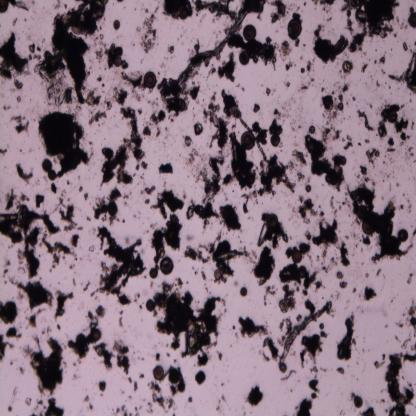Background material: (34, 0, 109, 106), (152, 275, 226, 367), (170, 11, 250, 87), (344, 180, 413, 260), (0, 191, 60, 277), (92, 226, 147, 306), (37, 111, 95, 178), (342, 0, 401, 55), (22, 334, 66, 399), (302, 134, 345, 191), (254, 145, 298, 199), (386, 349, 416, 416), (226, 35, 282, 69), (203, 92, 232, 157), (230, 133, 262, 189), (10, 274, 56, 311), (0, 29, 32, 81), (99, 142, 135, 186), (119, 106, 146, 163), (314, 22, 348, 66), (148, 214, 185, 253), (199, 149, 226, 202), (134, 4, 162, 55), (40, 232, 76, 271), (160, 78, 198, 114), (222, 88, 252, 132), (388, 50, 416, 93), (149, 188, 187, 219), (256, 212, 289, 247), (312, 218, 341, 256), (251, 246, 276, 287), (318, 89, 346, 124), (149, 378, 176, 414), (337, 312, 356, 362), (191, 0, 238, 20), (298, 335, 322, 374), (218, 202, 245, 234), (382, 101, 409, 133), (184, 200, 219, 224), (185, 239, 216, 264), (121, 69, 145, 101), (237, 315, 268, 338), (284, 94, 303, 131), (185, 150, 207, 181), (92, 342, 115, 371), (52, 290, 74, 320), (113, 340, 131, 376), (31, 397, 65, 416), (60, 196, 78, 230), (163, 0, 193, 20), (297, 196, 318, 224), (319, 123, 343, 147), (219, 52, 237, 83), (280, 263, 303, 287), (0, 299, 21, 324), (10, 114, 32, 136), (15, 162, 35, 186), (261, 336, 278, 364), (150, 108, 165, 138), (302, 268, 318, 296), (246, 385, 264, 409), (68, 340, 90, 359), (92, 198, 108, 223), (294, 398, 316, 416), (93, 31, 106, 61), (86, 111, 108, 128), (357, 109, 374, 131), (283, 284, 297, 310), (106, 186, 128, 202), (244, 0, 264, 17), (115, 403, 141, 416), (0, 334, 13, 360), (3, 190, 18, 212), (406, 304, 416, 336), (10, 0, 31, 15), (104, 41, 115, 69), (262, 284, 276, 306), (24, 313, 41, 331), (170, 377, 186, 396), (216, 262, 235, 278), (356, 164, 371, 184), (87, 311, 102, 330), (113, 86, 128, 105), (214, 235, 233, 250), (341, 239, 351, 267), (237, 244, 251, 264), (366, 148, 382, 164), (322, 257, 338, 273), (292, 150, 309, 165), (4, 326, 22, 340), (279, 317, 292, 336), (364, 284, 379, 300), (309, 378, 320, 399), (358, 404, 377, 416), (91, 303, 106, 318), (26, 44, 42, 58), (2, 256, 12, 278), (376, 120, 388, 138), (374, 352, 386, 370), (300, 76, 314, 91), (304, 299, 317, 315), (14, 190, 30, 203), (251, 122, 268, 134), (270, 120, 284, 134), (398, 132, 412, 146), (280, 42, 292, 58), (216, 394, 226, 413), (279, 370, 296, 381), (84, 394, 95, 411), (329, 196, 338, 216), (343, 134, 353, 152), (337, 271, 347, 289), (33, 194, 45, 209), (93, 73, 104, 89), (69, 231, 79, 248), (338, 197, 351, 210), (222, 174, 235, 187), (396, 16, 408, 30), (242, 194, 251, 212), (134, 161, 150, 171), (387, 138, 397, 154), (360, 234, 372, 247), (402, 352, 416, 363), (143, 185, 158, 195), (97, 379, 107, 394), (117, 308, 124, 329), (273, 108, 285, 120), (358, 62, 370, 74), (319, 0, 337, 8), (271, 12, 283, 24), (299, 241, 310, 254), (100, 260, 110, 274), (206, 65, 216, 79), (319, 322, 327, 339), (151, 254, 160, 269), (252, 101, 262, 114), (193, 122, 203, 135), (11, 386, 19, 402), (297, 169, 306, 183), (108, 214, 119, 225), (50, 181, 58, 196), (406, 272, 416, 284), (290, 36, 300, 48), (142, 125, 151, 138), (302, 230, 312, 241), (184, 135, 194, 146), (40, 326, 52, 335), (13, 80, 23, 90), (285, 247, 294, 258), (81, 281, 90, 292), (72, 224, 84, 232), (291, 12, 303, 20), (104, 98, 112, 110), (395, 319, 405, 328), (284, 62, 294, 71), (10, 17, 18, 28), (167, 44, 175, 55), (216, 349, 223, 361), (407, 145, 414, 157), (342, 83, 350, 93), (24, 397, 32, 407), (307, 254, 313, 267), (306, 60, 312, 73), (264, 85, 271, 96), (200, 270, 207, 281), (0, 146, 7, 157), (272, 0, 283, 7), (138, 371, 146, 380), (2, 103, 11, 111), (315, 280, 323, 289), (336, 367, 345, 375), (71, 278, 78, 288), (155, 352, 161, 363), (35, 308, 46, 314), (397, 202, 405, 210), (319, 366, 327, 374), (371, 178, 378, 187), (379, 55, 386, 64), (410, 342, 416, 352), (402, 339, 408, 349), (319, 209, 325, 219), (411, 228, 416, 240), (18, 364, 24, 374), (133, 380, 138, 392), (56, 322, 62, 332), (402, 42, 408, 52), (72, 374, 81, 380), (90, 244, 96, 253), (408, 200, 412, 213), (16, 96, 23, 103), (395, 335, 401, 343), (376, 268, 382, 276), (352, 287, 358, 295), (7, 404, 13, 412), (296, 316, 302, 324), (375, 80, 381, 88), (82, 192, 88, 200), (231, 324, 237, 331), (312, 0, 319, 6), (145, 198, 150, 206), (138, 106, 142, 116), (79, 184, 84, 192), (188, 396, 193, 404), (116, 0, 124, 5), (410, 120, 414, 130), (364, 138, 370, 144), (380, 68, 386, 74), (364, 272, 370, 278), (326, 16, 332, 22), (8, 360, 14, 366), (300, 66, 304, 74), (139, 302, 143, 310), (409, 7, 414, 12), (352, 96, 356, 102), (128, 377, 132, 383), (412, 158, 416, 164), (374, 58, 377, 65), (286, 82, 290, 87), (357, 142, 362, 146), (414, 40, 416, 46)
Cellulose filter fibre: (279, 300, 332, 362), (255, 132, 269, 145)
Diatom: (287, 18, 303, 37), (160, 256, 174, 276), (215, 250, 237, 262), (241, 132, 255, 150), (144, 71, 157, 89), (362, 220, 375, 237), (290, 249, 303, 265), (170, 367, 182, 384), (244, 24, 256, 41), (107, 201, 120, 216), (267, 212, 278, 229), (238, 51, 250, 66), (152, 365, 164, 379), (398, 228, 409, 243), (353, 394, 363, 410), (387, 109, 398, 123), (91, 327, 102, 341), (76, 333, 86, 348), (407, 11, 416, 27), (278, 298, 288, 312), (42, 158, 52, 172), (270, 135, 282, 146), (145, 299, 155, 312), (196, 371, 206, 384), (298, 265, 308, 278), (348, 0, 360, 10), (0, 0, 9, 13), (343, 60, 351, 73), (114, 46, 124, 56), (112, 19, 121, 30), (150, 267, 158, 279), (157, 246, 165, 258), (179, 8, 187, 20), (278, 363, 288, 372), (240, 286, 248, 297), (214, 269, 222, 280), (278, 4, 286, 15), (115, 56, 122, 68), (48, 170, 56, 180), (170, 8, 178, 18), (339, 156, 347, 166), (308, 125, 316, 134), (306, 185, 312, 192), (194, 44, 200, 50)
Fragment: (159, 161, 174, 177)
